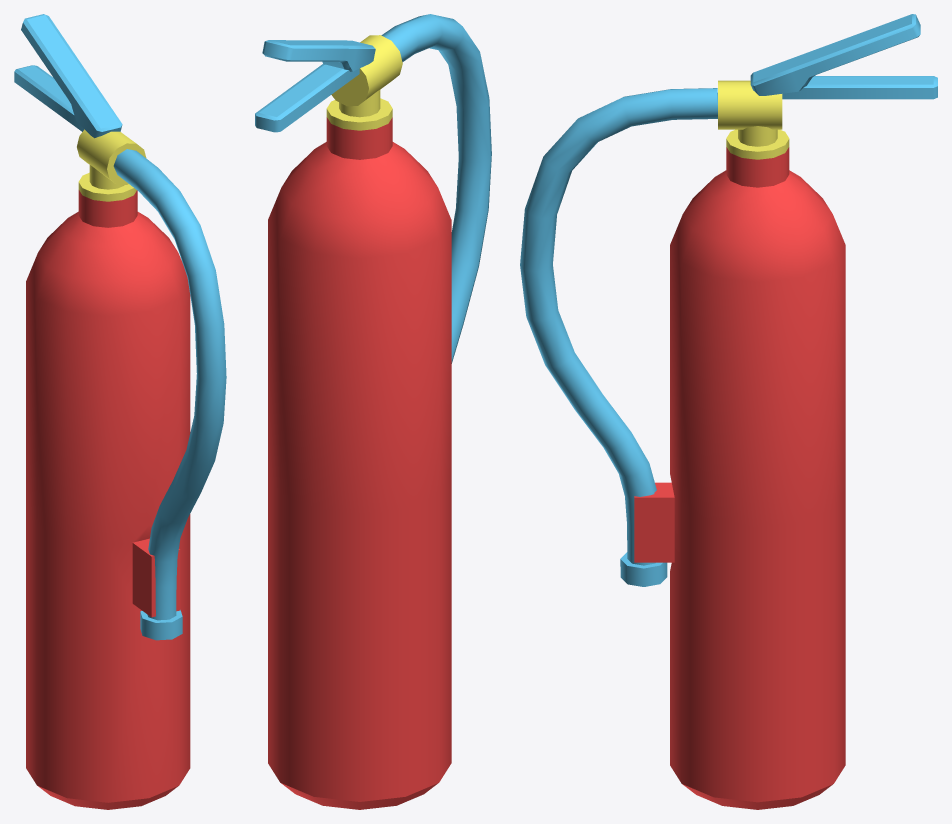
Rendered from SM_FireExtinguiser.fbx.
3 views of the same model, side by side, from view 1: azimuth 30°, elevation 25°; view 2: azimuth 150°, elevation 25°; view 3: azimuth 270°, elevation 25° (orthographic). The views are drawn at different scales.
Visible parts, largest first — view 1: SM_FireExtinguiser; view 2: SM_FireExtinguiser; view 3: SM_FireExtinguiser.
Part boxes in pixels (x1,y1,x2,y2): SM_FireExtinguiser: (14,14,226,809); SM_FireExtinguiser: (255,14,491,809); SM_FireExtinguiser: (520,14,937,809).
Bounding box in the file's own units: 13.23 × 63.21 × 31.46.
